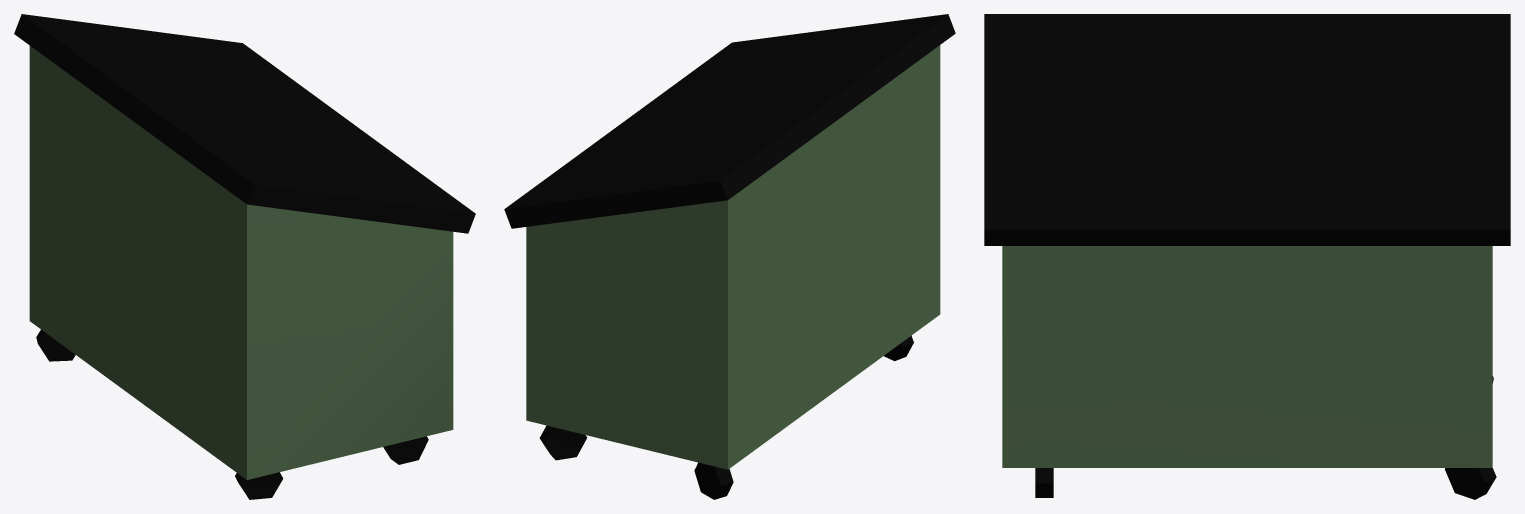
File: Dumpster_Closed.fbx
The picture shows the model from 3 angles, left to right: view 1: azimuth 30°, elevation 25°; view 2: azimuth 150°, elevation 25°; view 3: azimuth 270°, elevation 25°; orthographic projection. The views are drawn at different scales.
Parts seen in each view (by area): view 1: Dumpster_Closed; view 2: Dumpster_Closed; view 3: Dumpster_Closed.
Boxes of the visible parts, x1=… form: Dumpster_Closed: x1=14, y1=14, x2=475, y2=499; Dumpster_Closed: x1=504, y1=14, x2=955, y2=499; Dumpster_Closed: x1=984, y1=14, x2=1510, y2=499.
Bounding box in the file's own units: 0.0698 × 0.0983 × 0.123.
